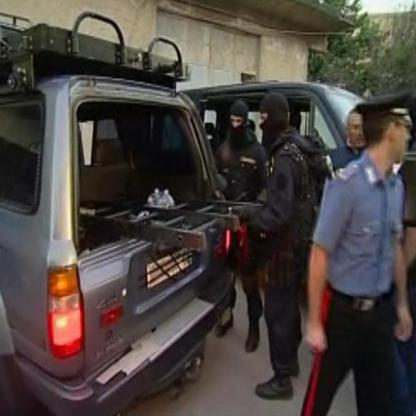face: (391, 120, 410, 162), (260, 107, 276, 139), (351, 114, 366, 147), (230, 111, 244, 140)
